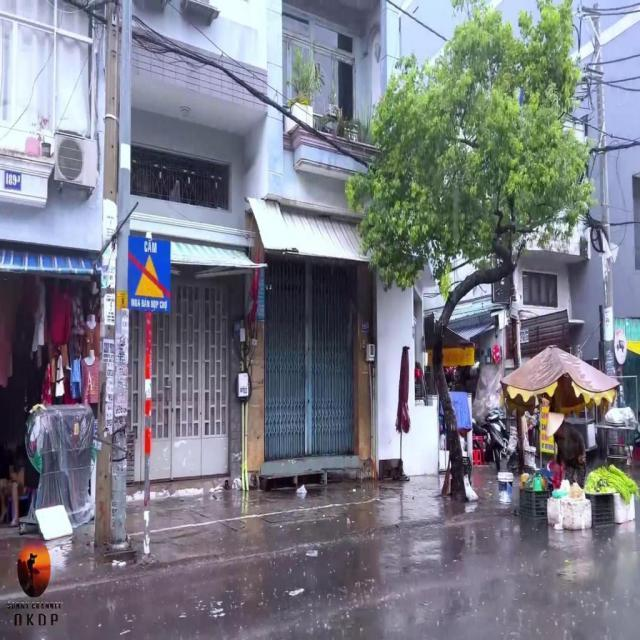106-cam-oto-tai: (614, 330, 628, 364)
